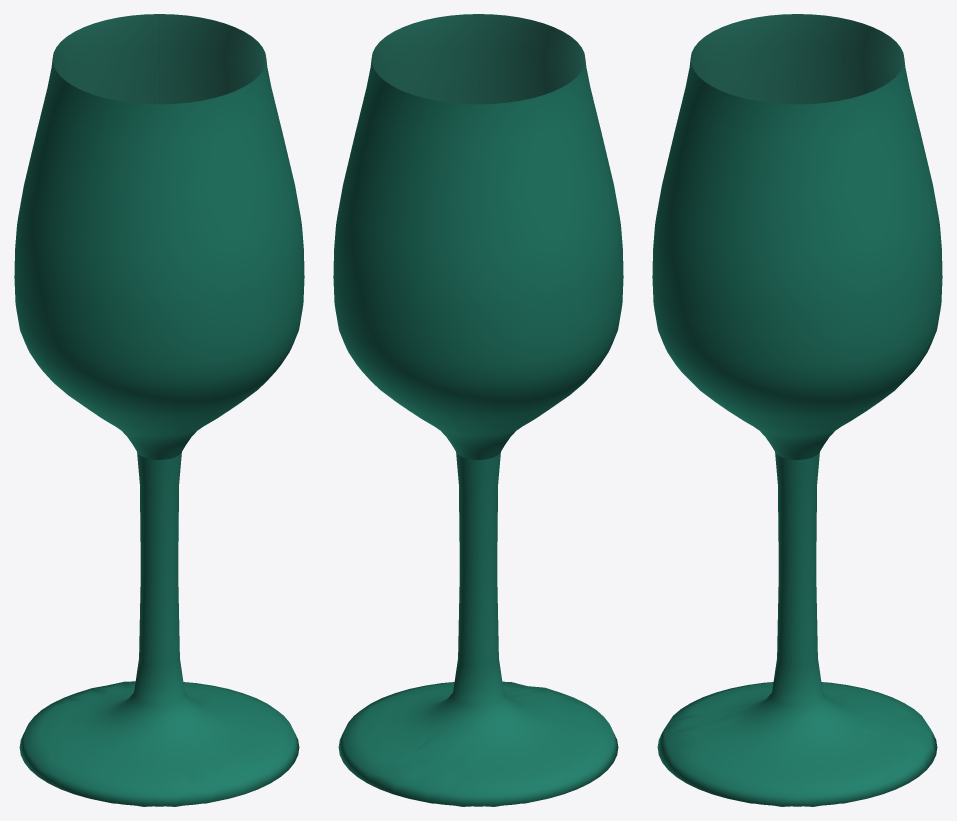
3 views of the same model, side by side, from view 1: azimuth 30°, elevation 25°; view 2: azimuth 150°, elevation 25°; view 3: azimuth 270°, elevation 25° (orthographic).
Parts seen in each view (by area): view 1: SketchUp; view 2: SketchUp; view 3: SketchUp.
Part boxes in pixels (x1,y1,x2,y2): SketchUp: (14,14,304,806); SketchUp: (333,14,623,806); SketchUp: (652,14,942,806).
Size of the model in its own units: 52.13 by 52.13 by 139.
